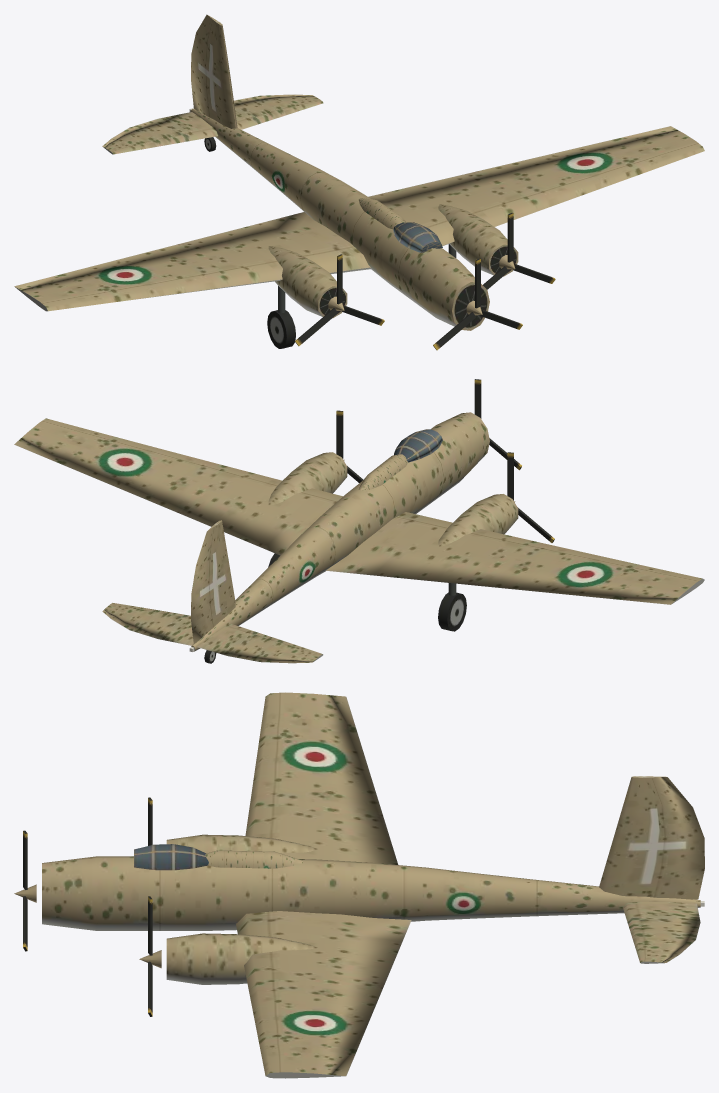
File: bomber.glb
The picture shows the model from 3 angles, top to bottom: view 1: azimuth 30°, elevation 25°; view 2: azimuth 150°, elevation 25°; view 3: azimuth 270°, elevation 25°; orthographic projection. The views are drawn at different scales.
Visible parts, largest first — view 1: fuselage, prop_center_pales, prop_right_pales, wheel_right, prop_left_pales; view 2: fuselage, wheel_right, prop_right_pales, prop_center_pales, prop_left_pales; view 3: fuselage.
Boxes of the visible parts, box(x1,y1,x2,y2) form: fuselage: box(14, 14, 704, 330); prop_center_pales: box(433, 258, 522, 350); prop_right_pales: box(295, 254, 384, 346); wheel_right: box(267, 310, 295, 348); prop_left_pales: box(483, 212, 555, 289); fuselage: box(14, 412, 704, 663); wheel_right: box(438, 592, 466, 631); prop_right_pales: box(507, 452, 554, 542); prop_center_pales: box(474, 379, 521, 470); prop_left_pales: box(336, 410, 363, 482); fuselage: box(42, 692, 704, 1078).
Size of the model in its own units: 21.2 by 5.98 by 16.31.
5 materials, 5 textured.
